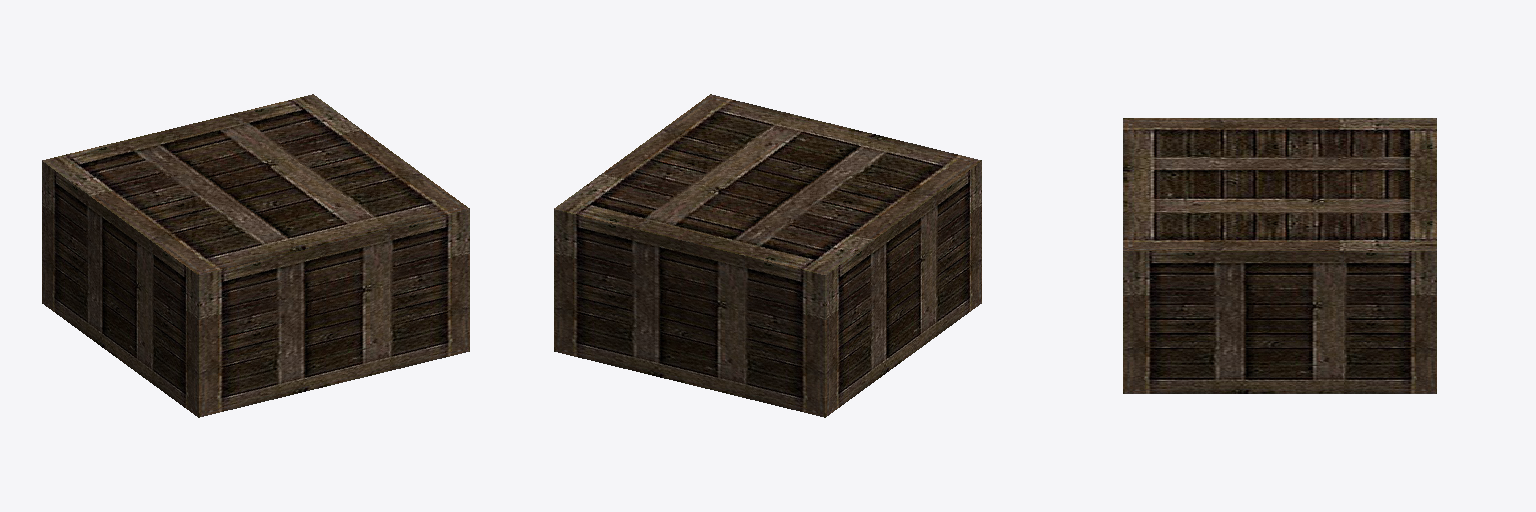
3 views of the same model, side by side, from view 1: azimuth 30°, elevation 25°; view 2: azimuth 150°, elevation 25°; view 3: azimuth 270°, elevation 25° (orthographic).
Parts seen in each view (by area): view 1: Box01; view 2: Box01; view 3: Box01.
Boxes of the visible parts, x1,y1,x2,y2 form: Box01: [42, 94, 469, 417]; Box01: [554, 94, 981, 417]; Box01: [1123, 118, 1436, 393].
Bounding box in the file's own units: 0.8 × 0.4 × 0.8.
1 materials, 1 textured.